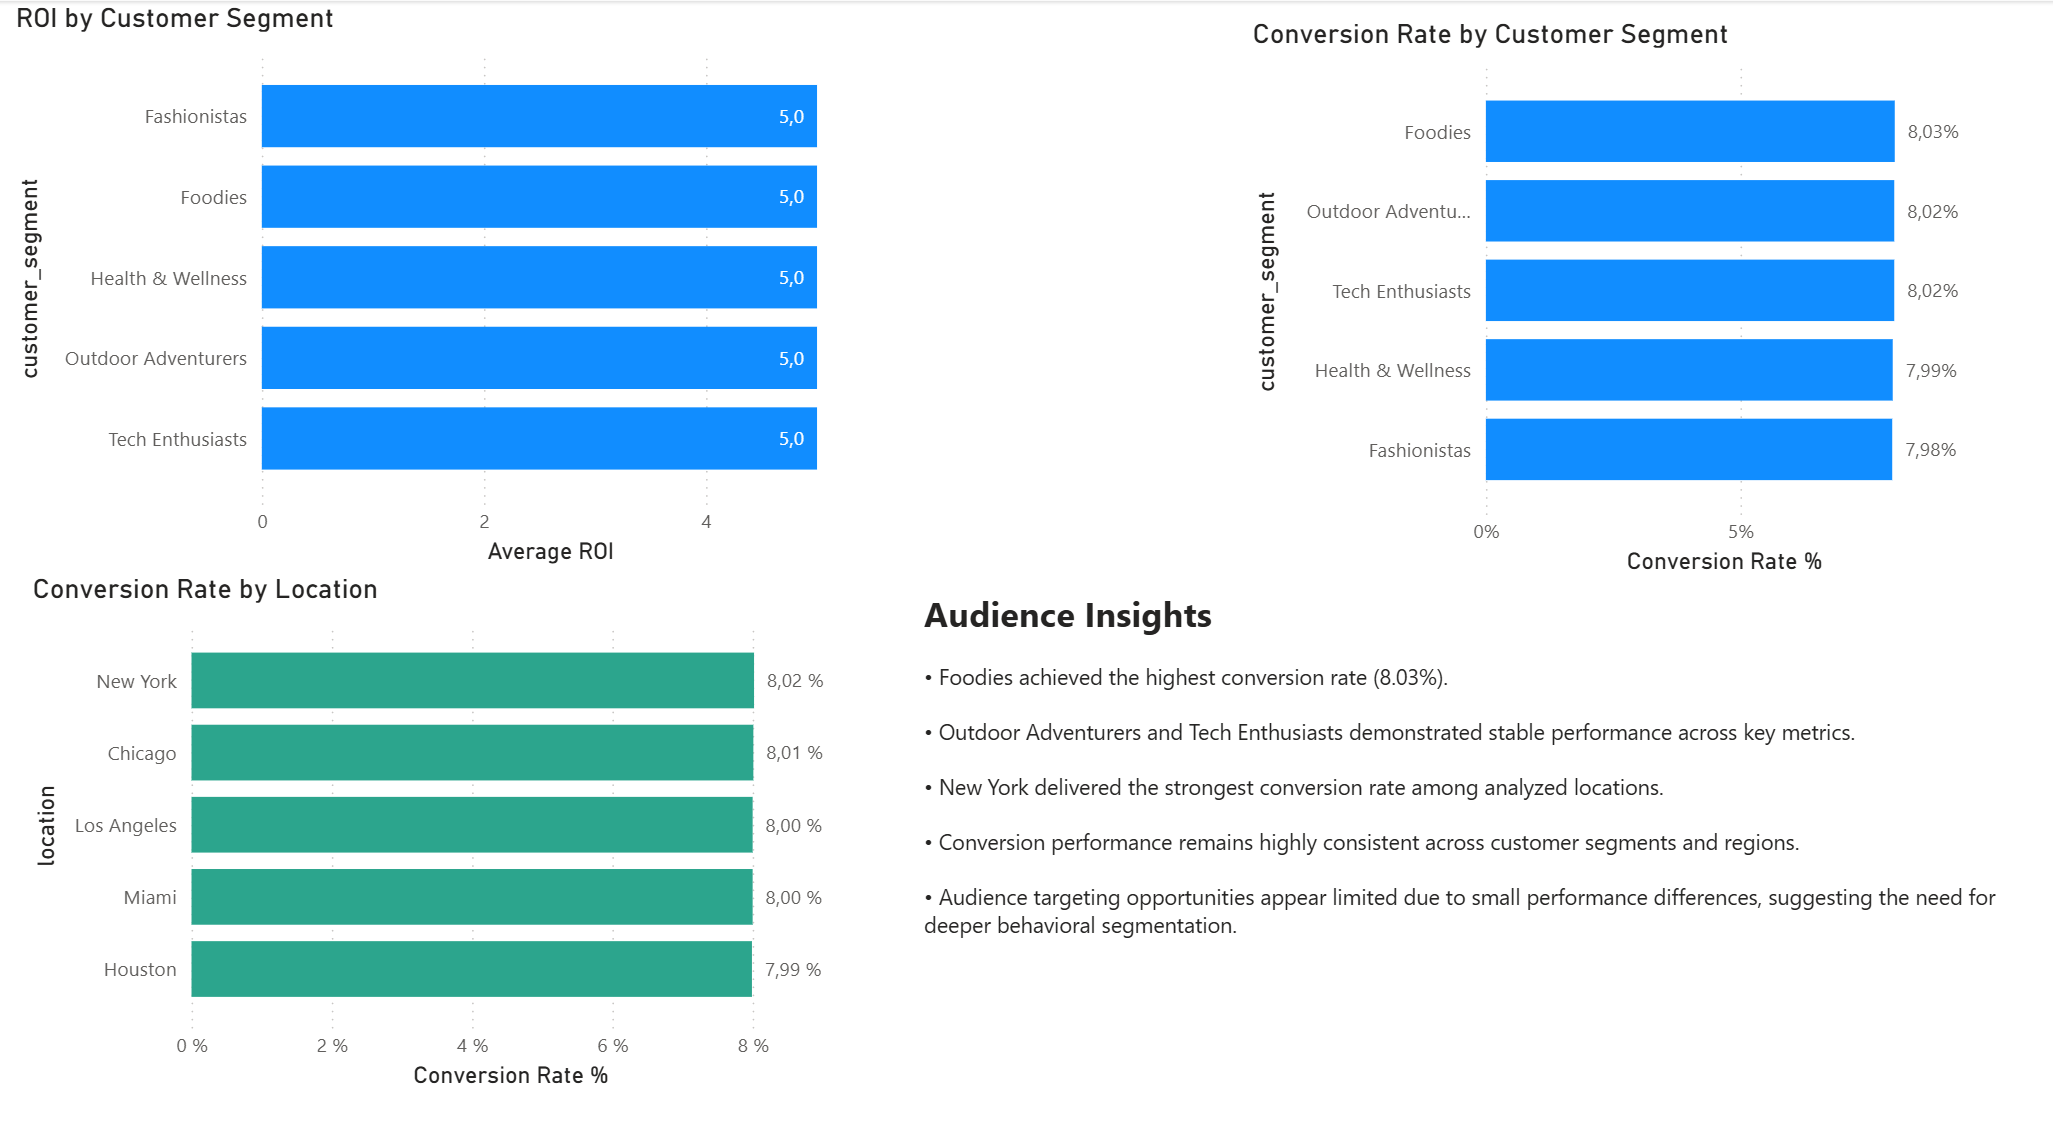

This screenshot's page, from the dashboard's own definition file:
{"tool":"powerbi","page":{"name":"Audience Insights","canvas":[1280,720],"ordinal":1},"visuals":[{"type":"barChart","title":"ROI by Customer Segment","fields":{"Category":["public vw_customer_segment_performance.customer_segment"],"Y":["Sum(public vw_customer_segment_performance.avg_roi)"]},"box":[10.1,0,523.3,353.2],"z":0},{"type":"clusteredBarChart","title":"Conversion Rate by Customer Segment","fields":{"Category":["public vw_customer_segment_performance.customer_segment"],"Y":["public vw_customer_segment_performance.Conversion Rate %"]},"box":[775,10.1,458.4,349.5],"z":1000},{"type":"barChart","title":"Conversion Rate by Location","fields":{"Y":["public vw_location_performance.Location Conversion Rate %"],"Category":["public vw_location_performance.location"]},"box":[20.1,353.2,513.3,323.9],"z":3000},{"type":"textbox","box":[571.8,359.6,708.2,317.5],"z":3001}]}

Visuals, with their boxes in screenshot pixels (x1, y1, x2, y2), scaled from the page's 1280x720 canvas onto the 2053x1148 screenshot:
"ROI by Customer Segment" barChart: bbox=(16, 0, 856, 563)
"Conversion Rate by Customer Segment" clusteredBarChart: bbox=(1243, 16, 1978, 573)
"Conversion Rate by Location" barChart: bbox=(32, 563, 856, 1080)
textbox: bbox=(917, 573, 2052, 1080)
